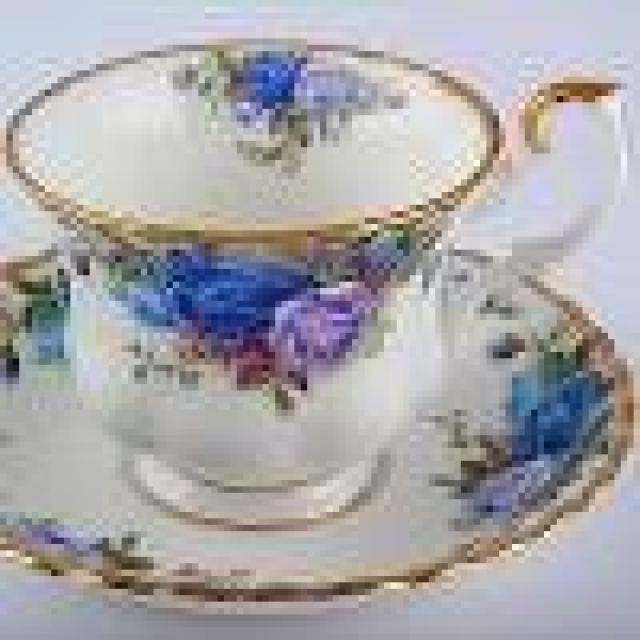taza: (0, 0, 513, 512)
